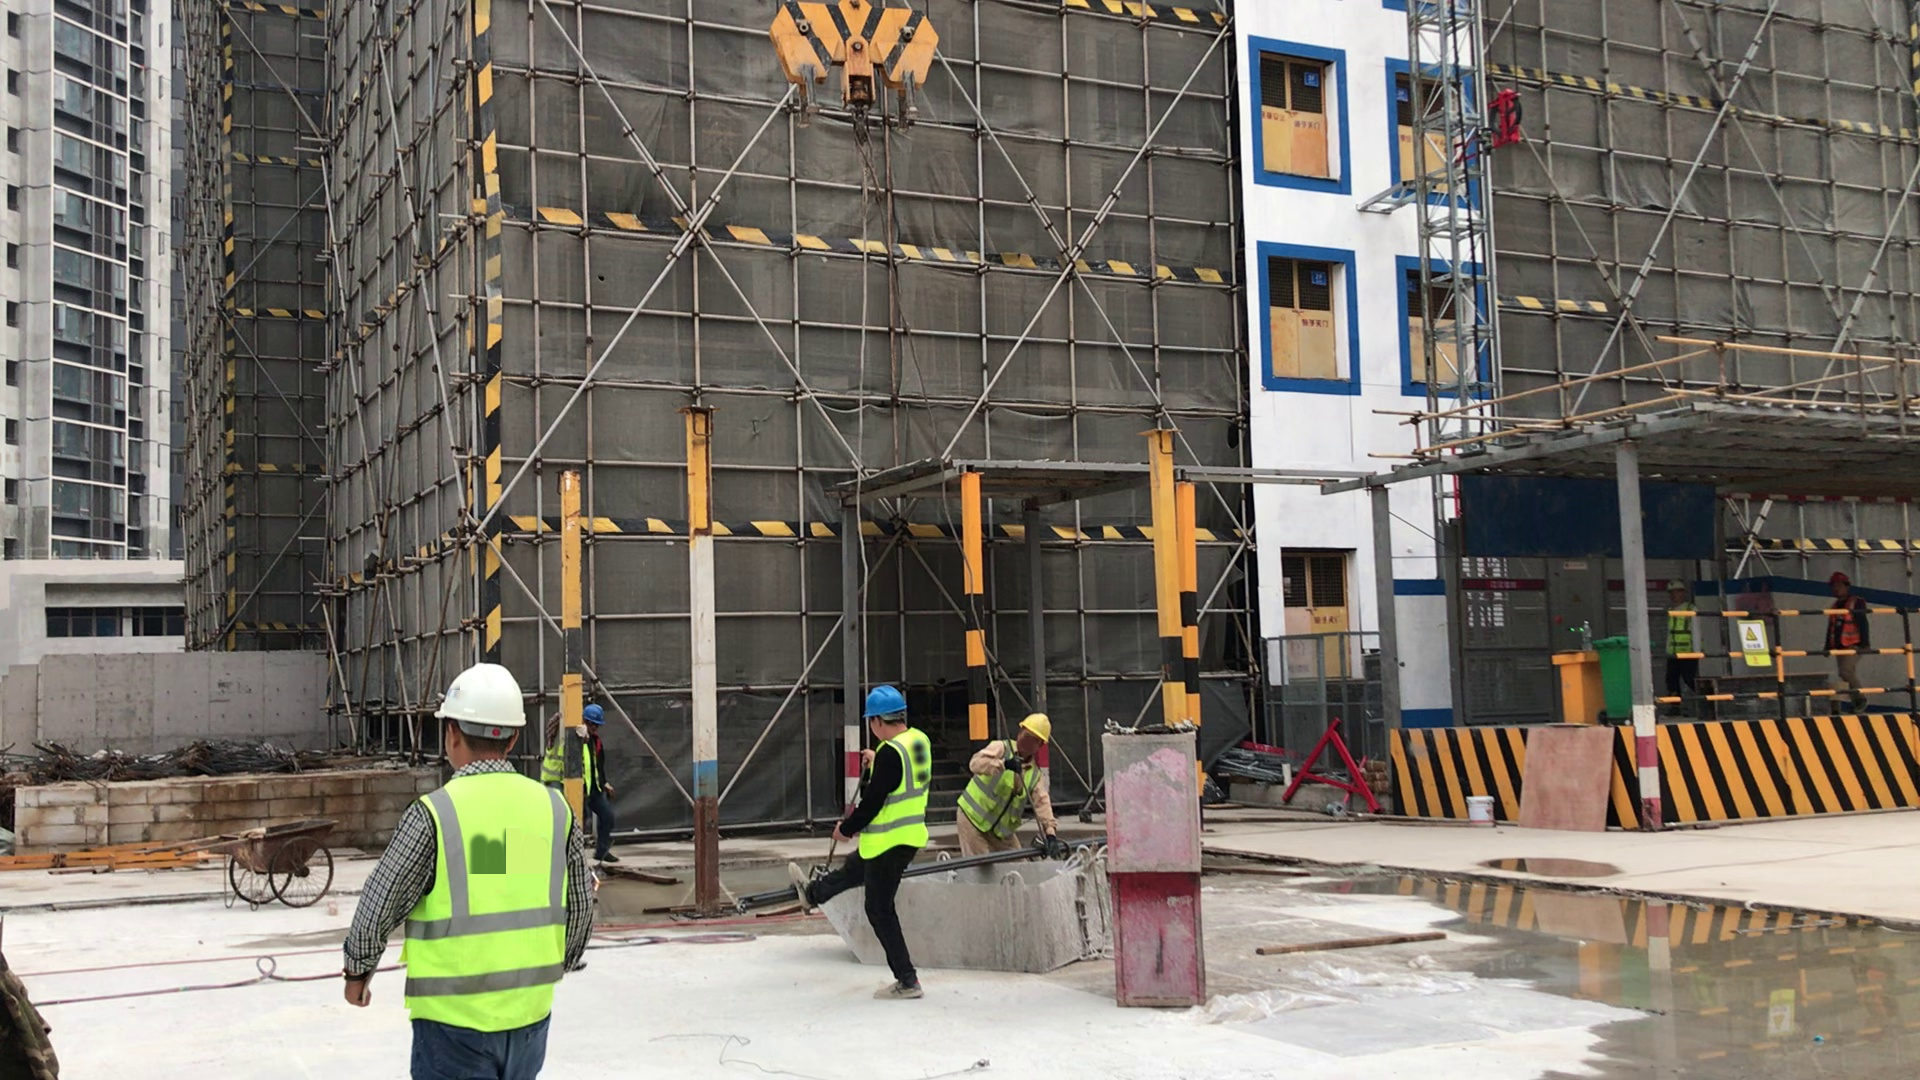helmet: (429, 651, 540, 743), (856, 670, 909, 734), (1015, 697, 1059, 754), (581, 697, 611, 734), (1824, 567, 1857, 583), (1660, 575, 1691, 592)
person: (336, 646, 594, 1080), (788, 665, 947, 1023), (947, 673, 1077, 879), (561, 688, 639, 866), (1822, 563, 1883, 708), (1659, 573, 1711, 695)
vest: (375, 765, 594, 1043), (847, 723, 944, 868), (956, 738, 1040, 859), (537, 714, 618, 805), (1656, 591, 1712, 672), (1825, 588, 1876, 658)
